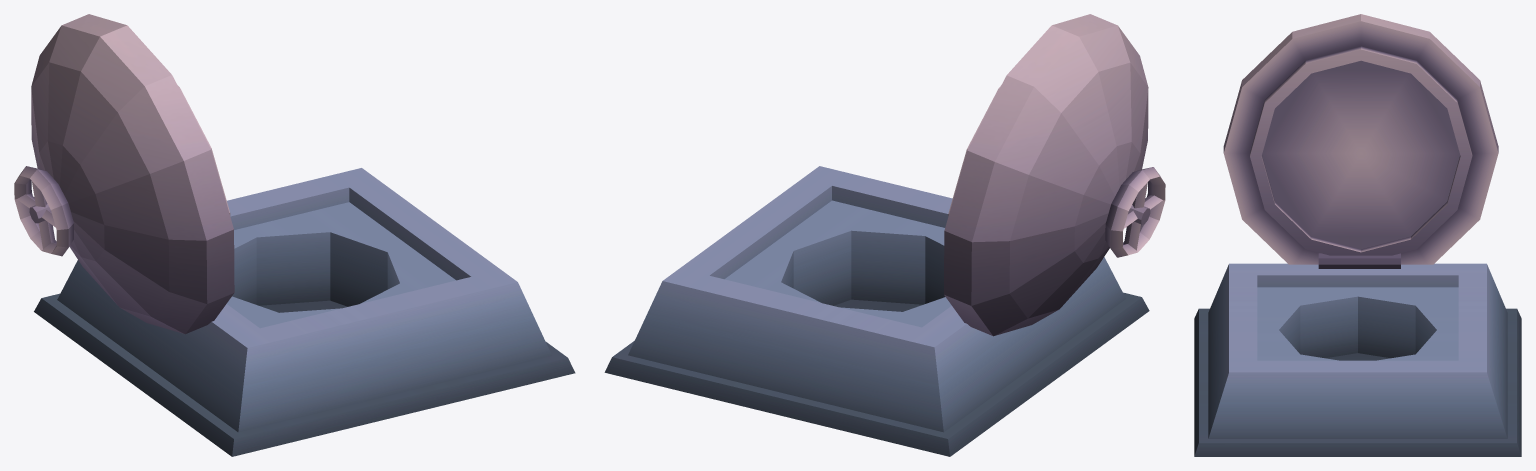
The model's file is Hatch.fbx.
3 views of the same model, side by side, from view 1: azimuth 30°, elevation 25°; view 2: azimuth 150°, elevation 25°; view 3: azimuth 270°, elevation 25° (orthographic). The views are drawn at different scales.
Visible parts, largest first — view 1: Bunker Hatch; view 2: Bunker Hatch; view 3: Bunker Hatch.
Boxes of the visible parts, x1,y1,x2,y2 form: Bunker Hatch: (14,14,575,456); Bunker Hatch: (604,14,1165,456); Bunker Hatch: (1194,14,1521,456).
Bounding box in the file's own units: 760 × 586 × 587.
